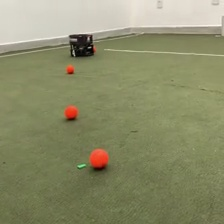ball: (88, 146, 110, 170), (64, 104, 78, 120), (64, 62, 76, 74)
robot: (67, 30, 94, 58)
